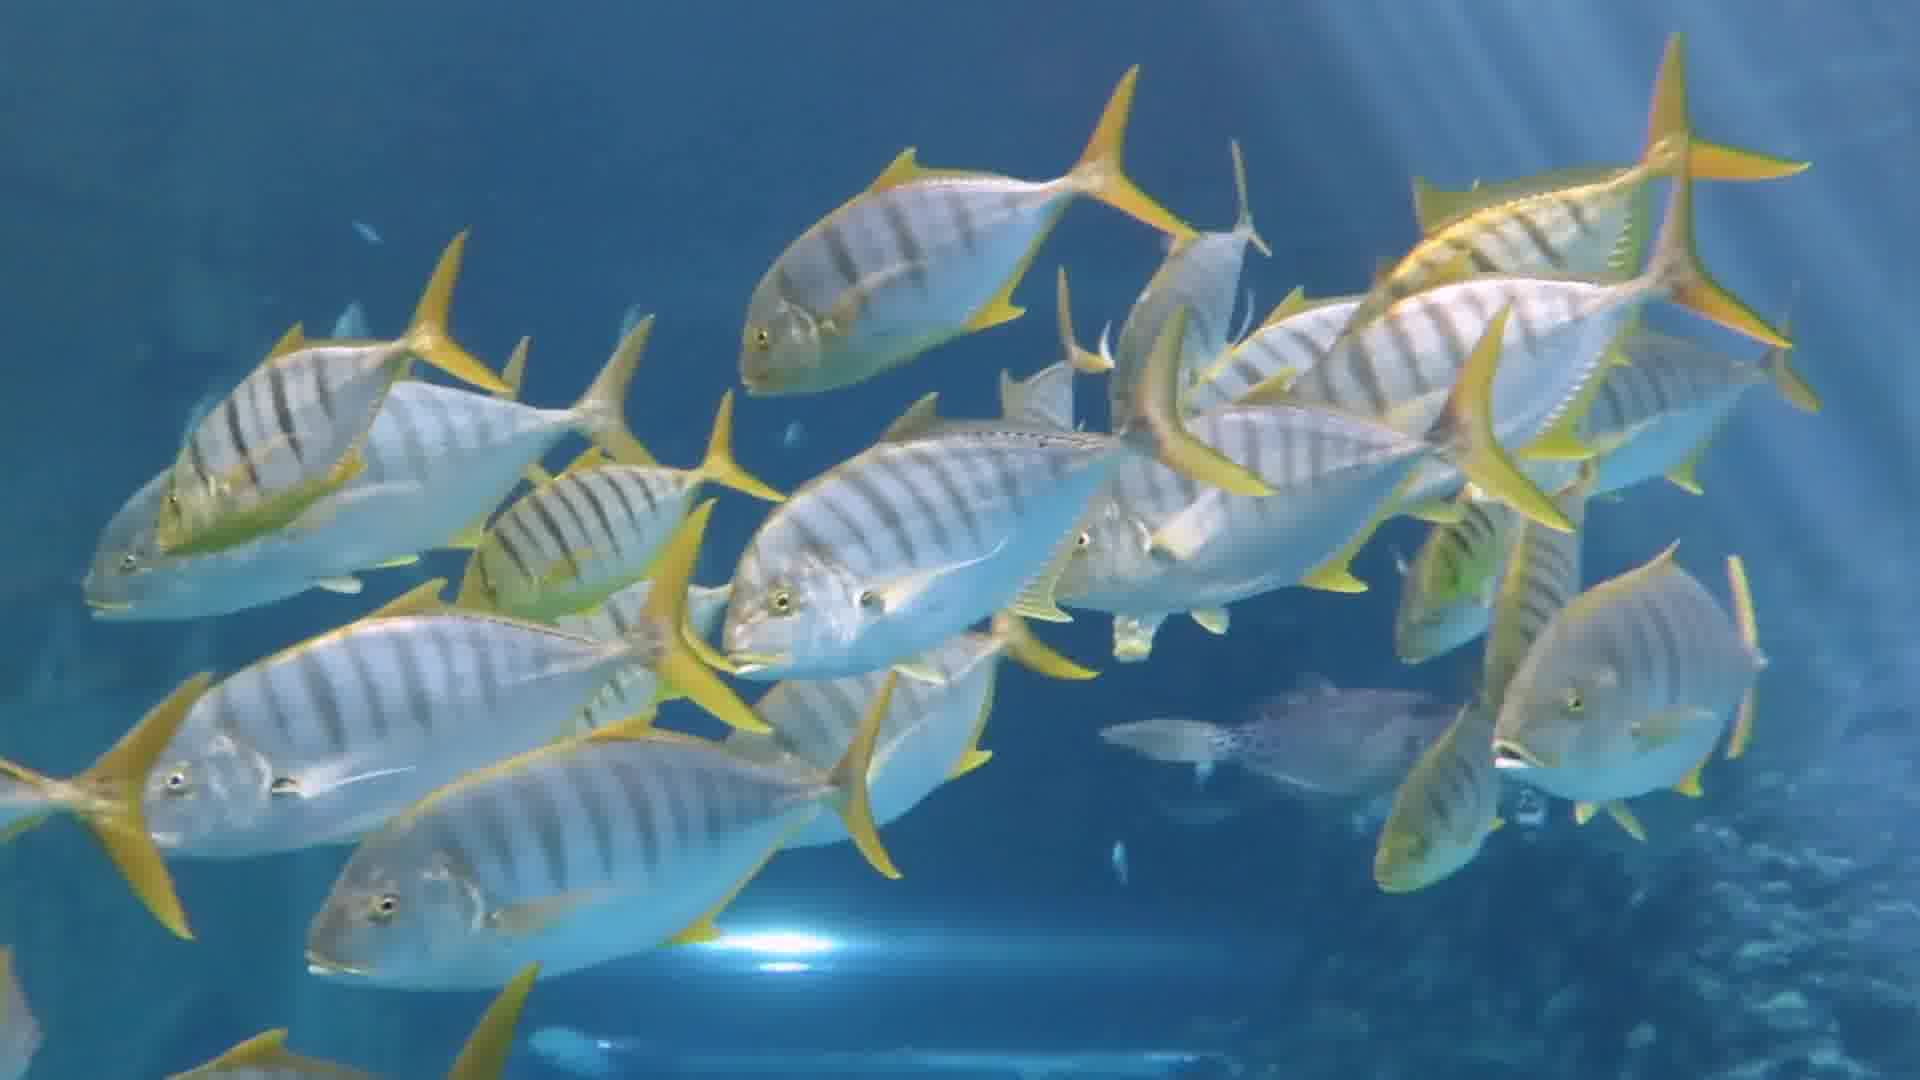Gnathanodon speciosus: (298, 712, 913, 986), (131, 576, 692, 847), (736, 120, 1174, 397), (716, 411, 1133, 684), (1489, 546, 1783, 793), (167, 307, 433, 545), (1358, 717, 1491, 905)
